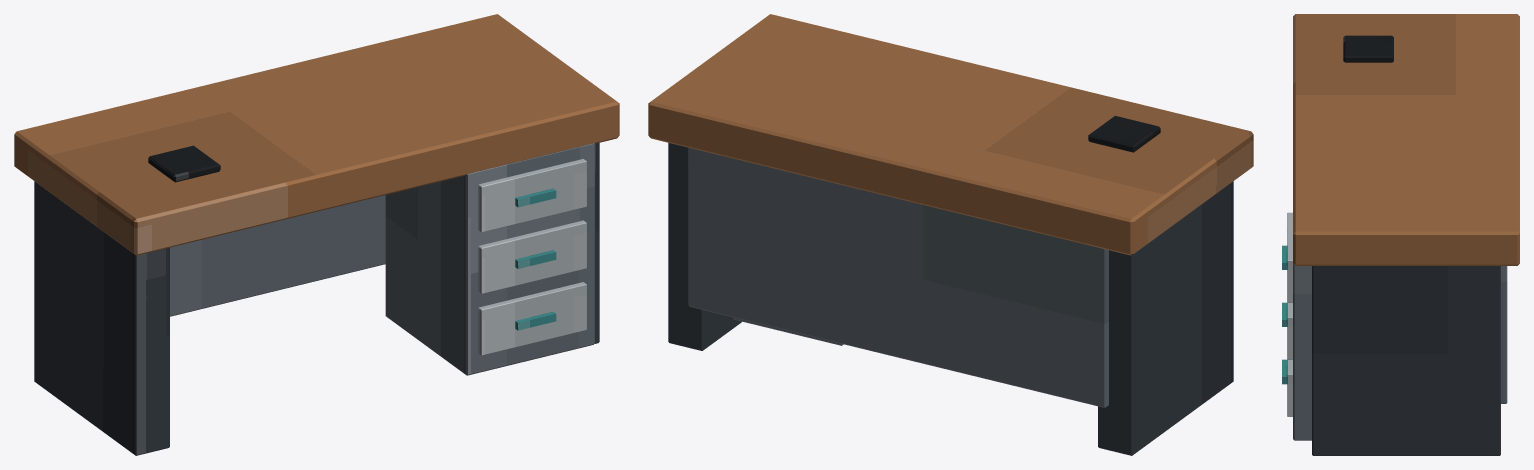
File: office_desk.glb
The picture shows the model from 3 angles, left to right: view 1: azimuth 30°, elevation 25°; view 2: azimuth 150°, elevation 25°; view 3: azimuth 270°, elevation 25°; orthographic projection. The views are drawn at different scales.
Visible parts, largest first — view 1: DeskTop, DeskLeg, DrawerPedestal, ModestyPanel, Drawer_2, Drawer_1, Drawer_0, CableGrommet, DeskLeg.001; view 2: DeskTop, ModestyPanel, DeskLeg, DeskLeg.001, CableGrommet; view 3: DeskTop, DeskLeg.001, DrawerPedestal, CableGrommet, ModestyPanel, Drawer_2, Drawer_0, Drawer_1.
Boxes of the visible parts, <box> form: DeskTop: <box>14,14,619,255</box>; DeskLeg: <box>34,181,169,455</box>; DrawerPedestal: <box>385,143,594,375</box>; ModestyPanel: <box>170,195,385,316</box>; Drawer_2: <box>478,159,586,232</box>; Drawer_1: <box>478,220,586,293</box>; Drawer_0: <box>478,282,586,355</box>; CableGrommet: <box>148,145,220,182</box>; DeskLeg.001: <box>594,143,599,343</box>; DeskTop: <box>648,14,1253,255</box>; ModestyPanel: <box>688,147,1108,407</box>; DeskLeg: <box>1098,181,1233,455</box>; DeskLeg.001: <box>668,143,741,350</box>; CableGrommet: <box>1088,116,1160,152</box>; DeskTop: <box>1293,14,1519,265</box>; DeskLeg.001: <box>1312,266,1500,455</box>; DrawerPedestal: <box>1293,264,1311,440</box>; CableGrommet: <box>1343,35,1393,62</box>; ModestyPanel: <box>1501,266,1507,403</box>; Drawer_2: <box>1287,212,1292,302</box>; Drawer_0: <box>1287,360,1292,416</box>; Drawer_1: <box>1287,303,1292,359</box>.
Bounding box in the file's own units: 1.65 × 0.8275 × 0.755.
1 material, 1 textured.
